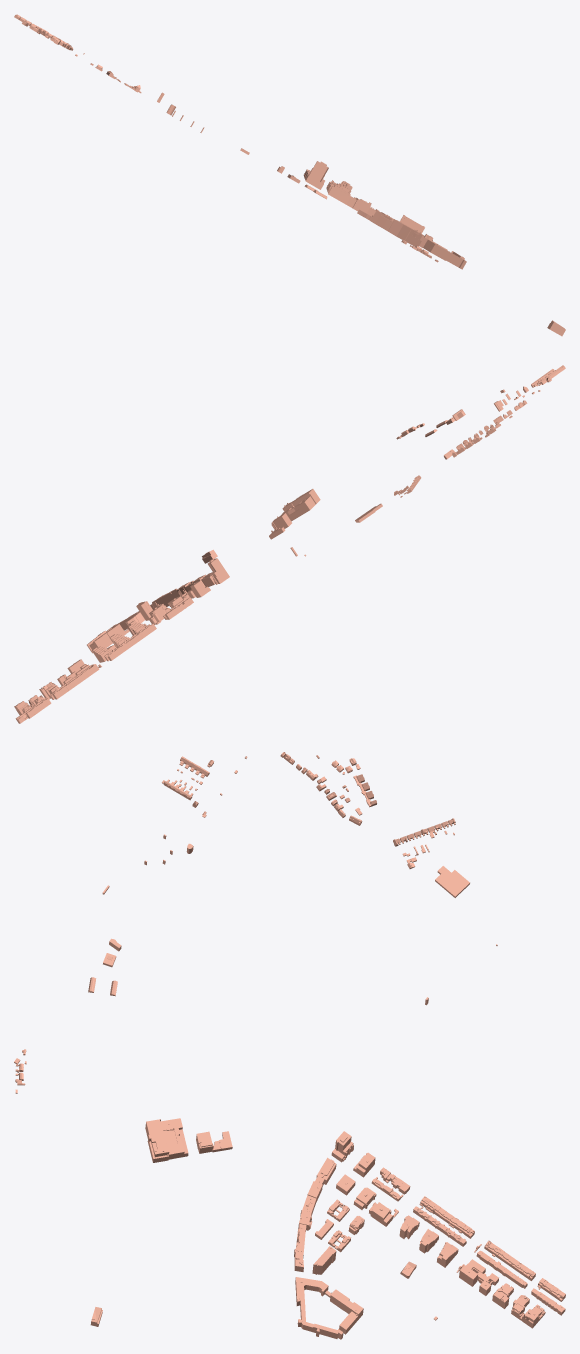
The picture shows the model from 3 angles, top to bottom: view 1: azimuth 30°, elevation 25°; view 2: azimuth 150°, elevation 25°; view 3: azimuth 270°, elevation 25°; orthographic projection. The views are drawn at different scales.
Size of the model in its own units: 3.24e+07 by 2.49e+07 by 3.38e+07.
